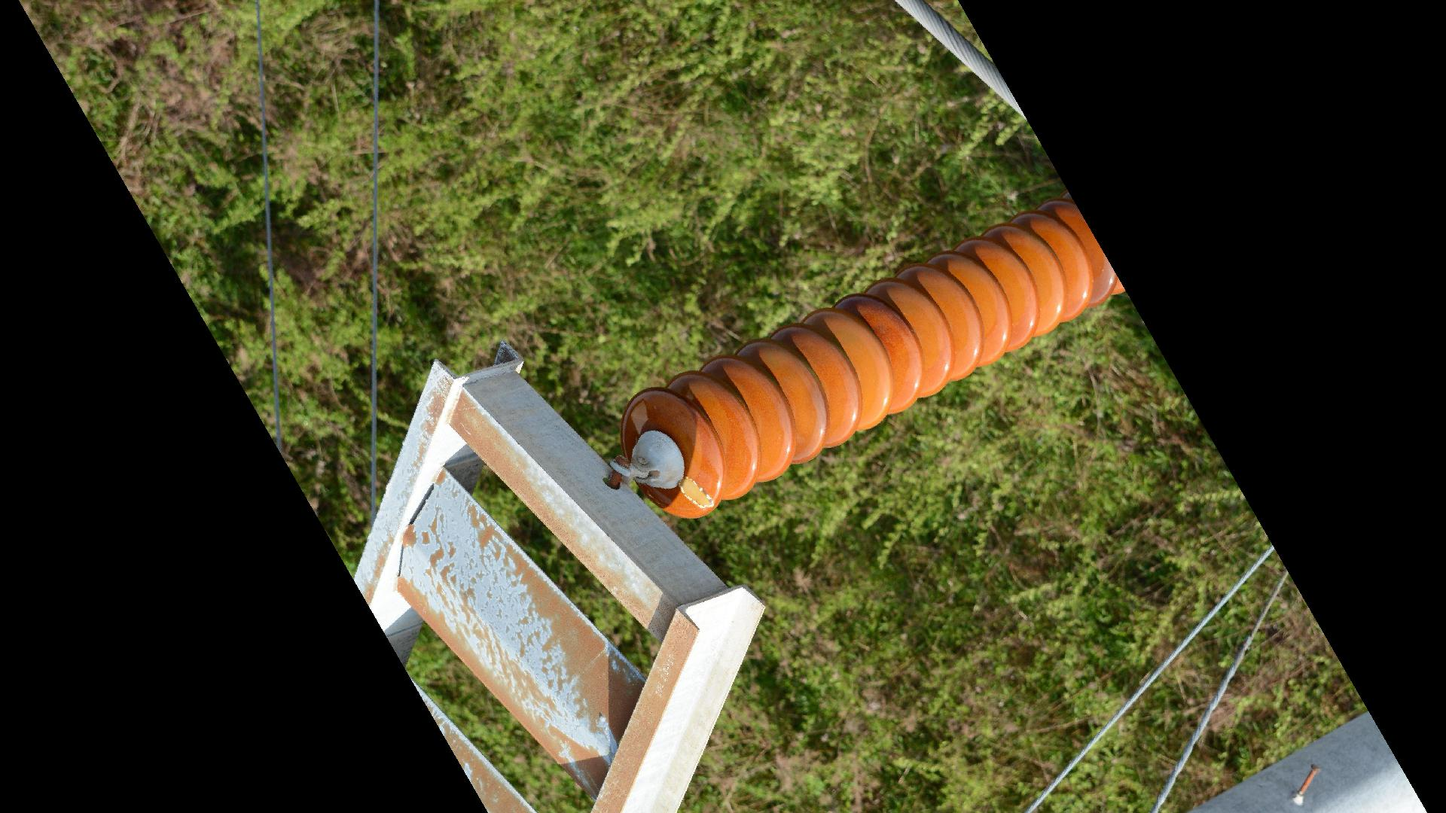insulator: (615, 197, 1127, 525)
insulator_flashover: (677, 474, 715, 510)
